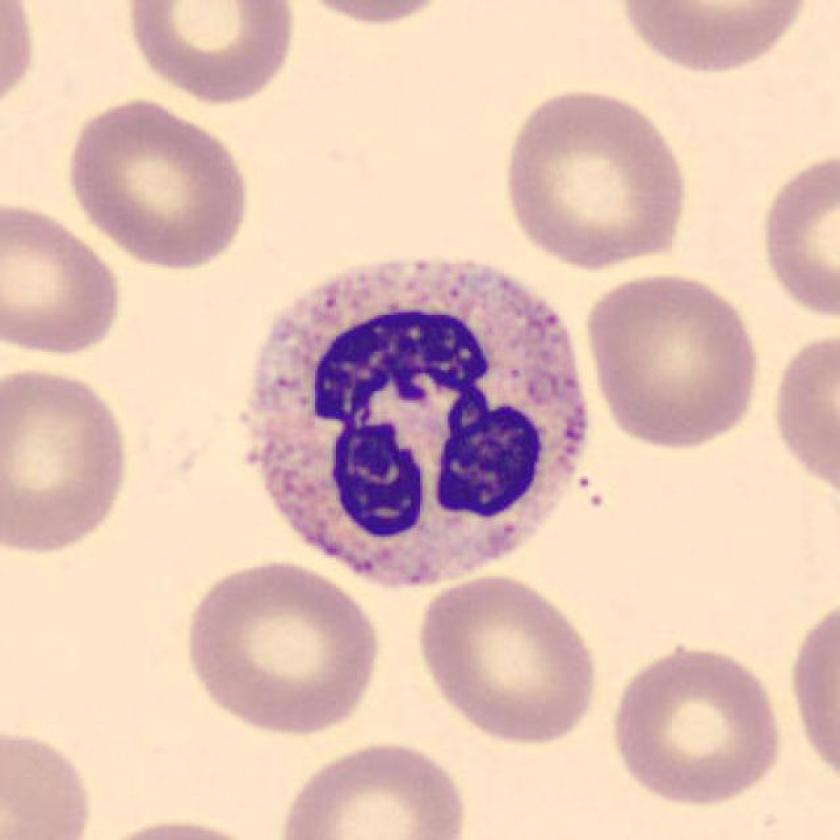neutrophil: (249, 260, 588, 585)
